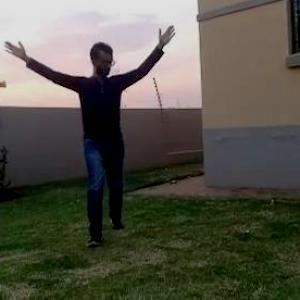takeoff: (1, 6, 179, 252)
